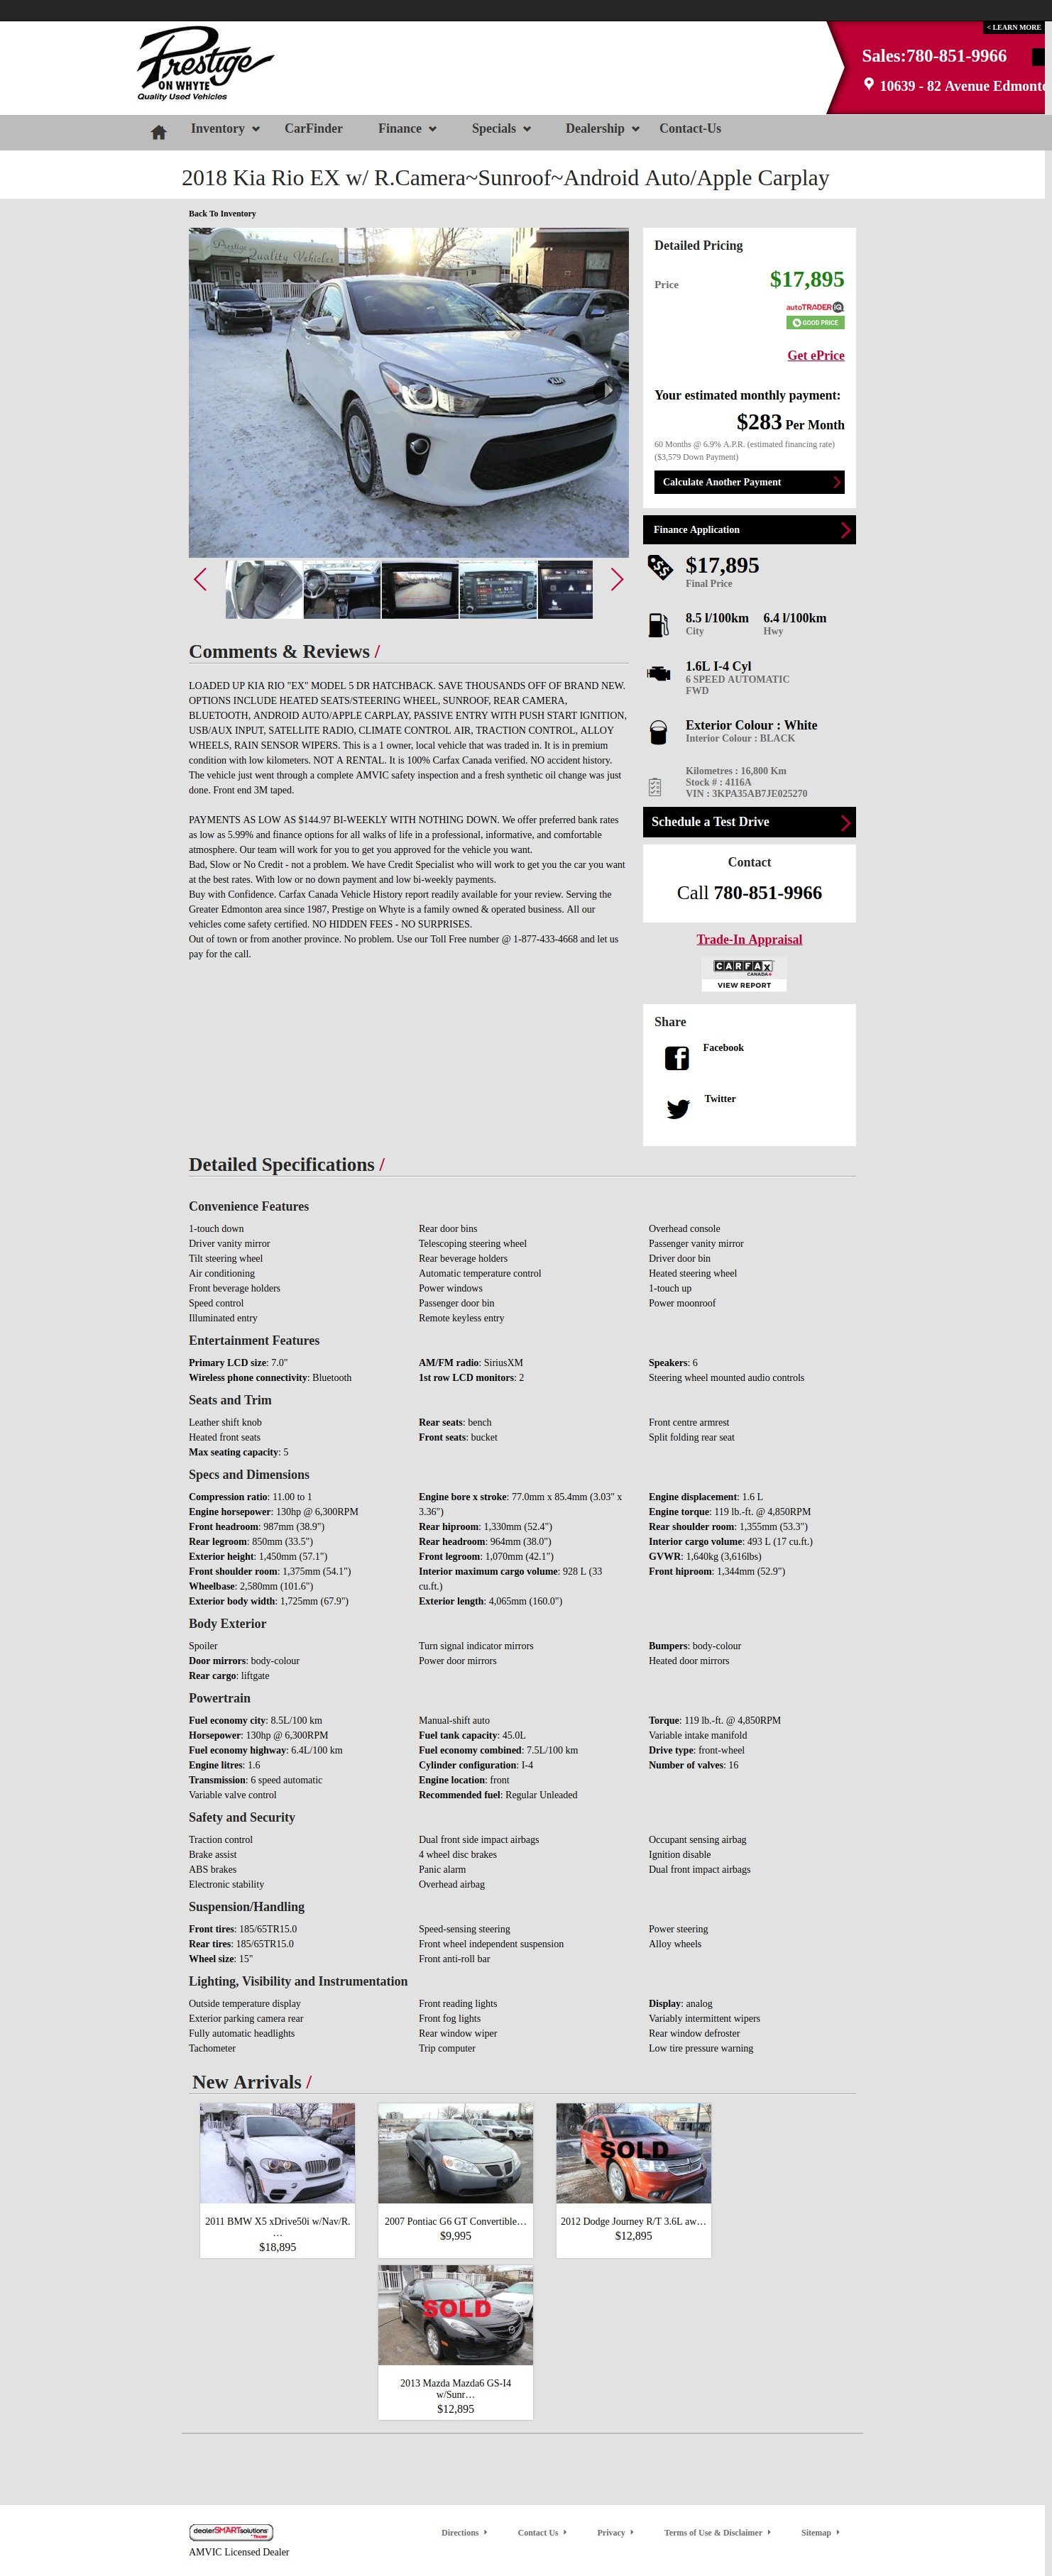car: (610, 567, 625, 593)
